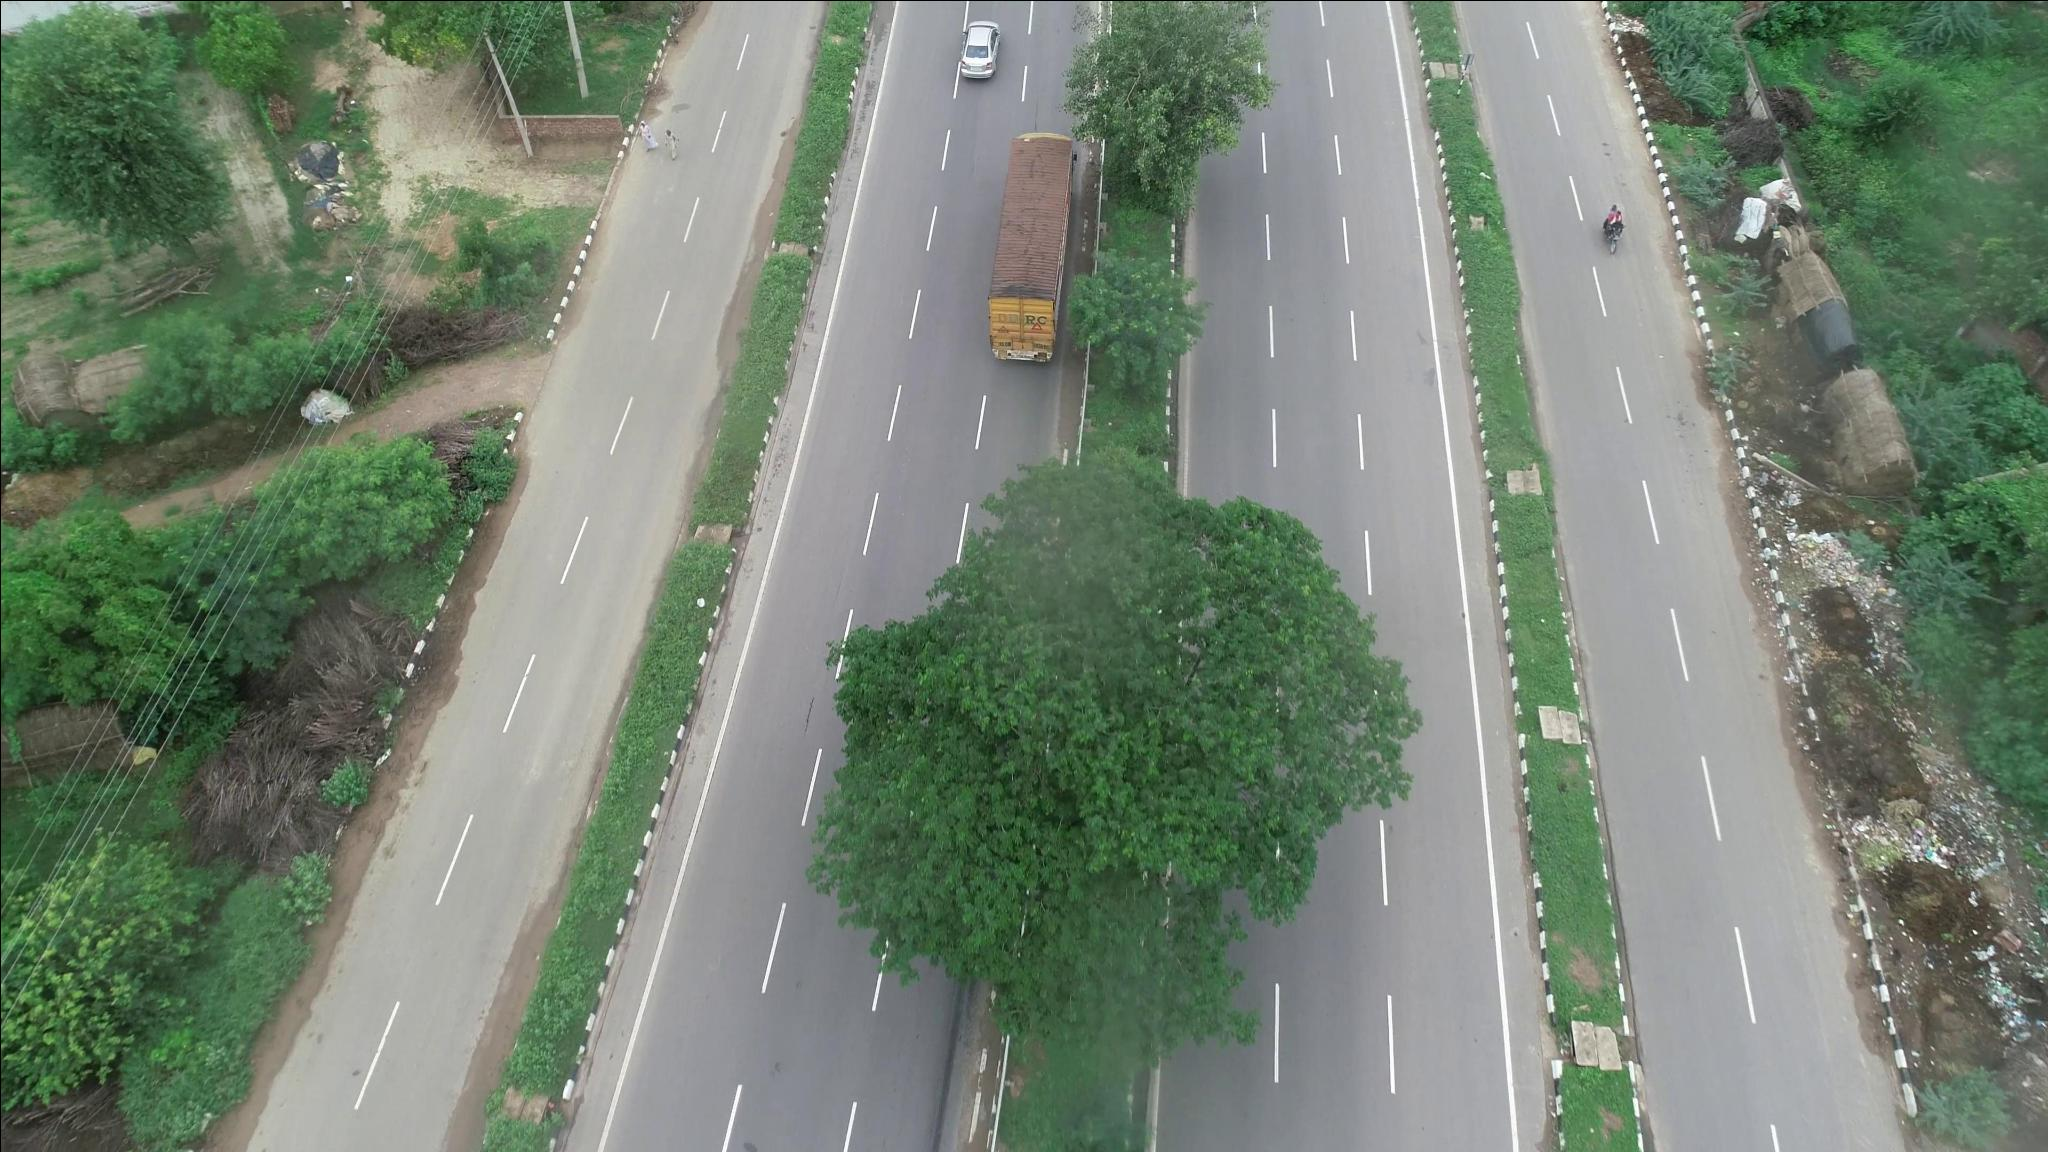Road_side_garbage: (1785, 511, 1912, 670)
